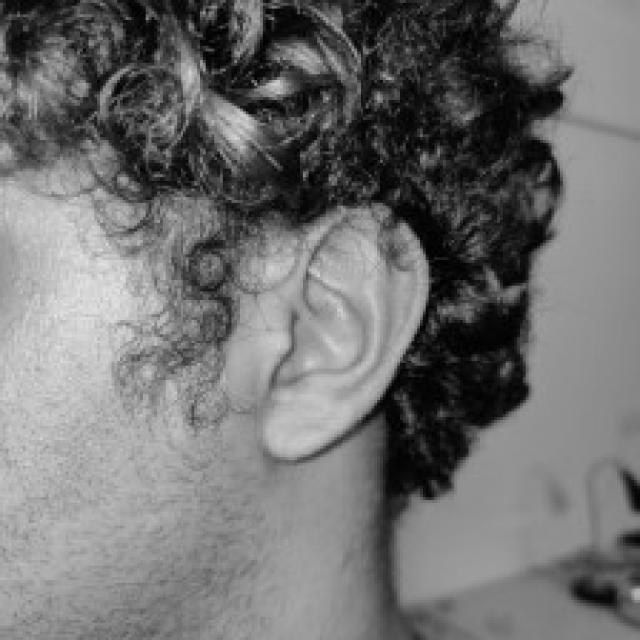ear: (251, 206, 426, 457)
